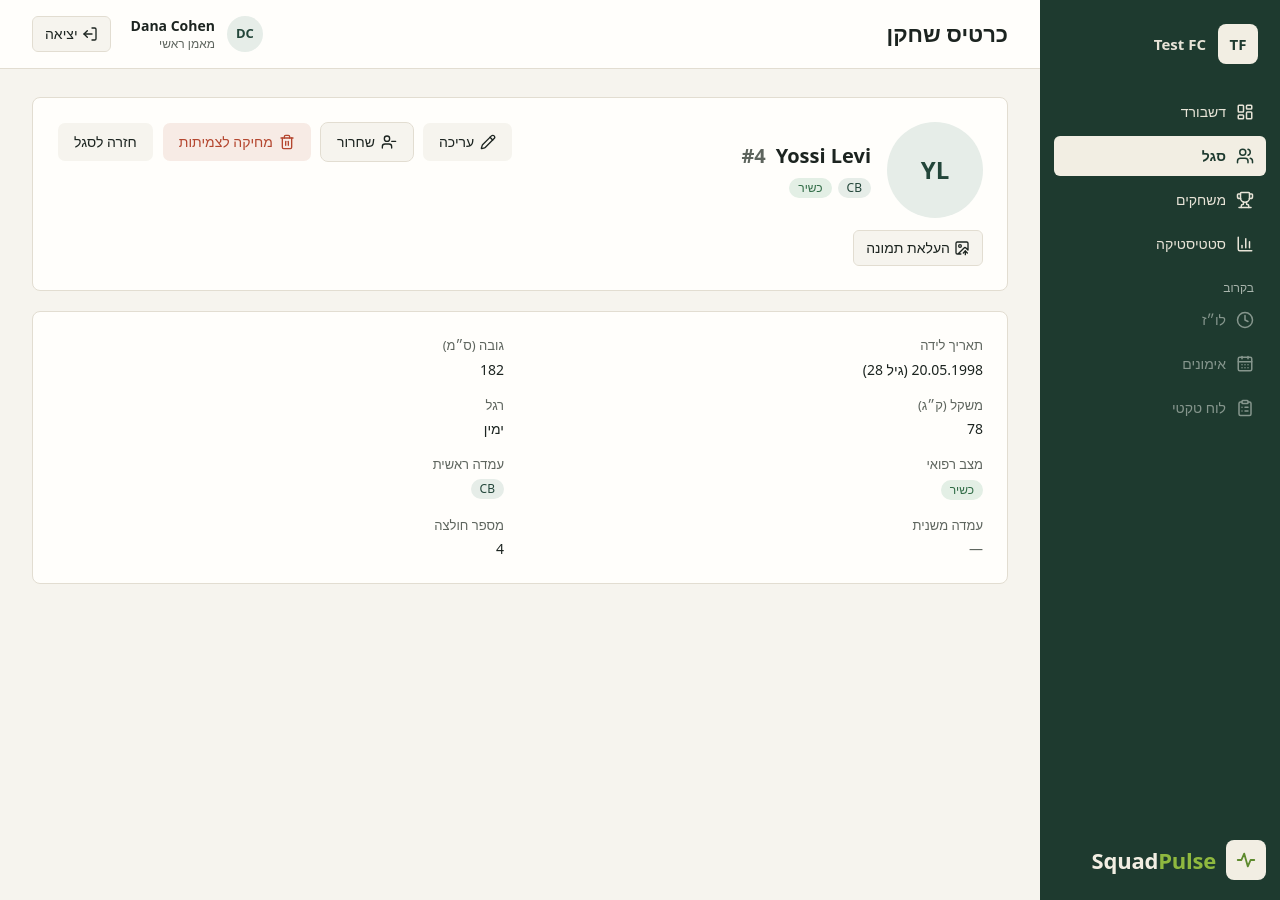
Test: the card's release › offers the squad when the player is gone (404)
The width and height of the screenshot is (1280, 900).
Expected: the heading "Yossi Levi" is shown, [776,142,871,170]
Click the button "שחרור": (367, 142) [320,122,414,162]
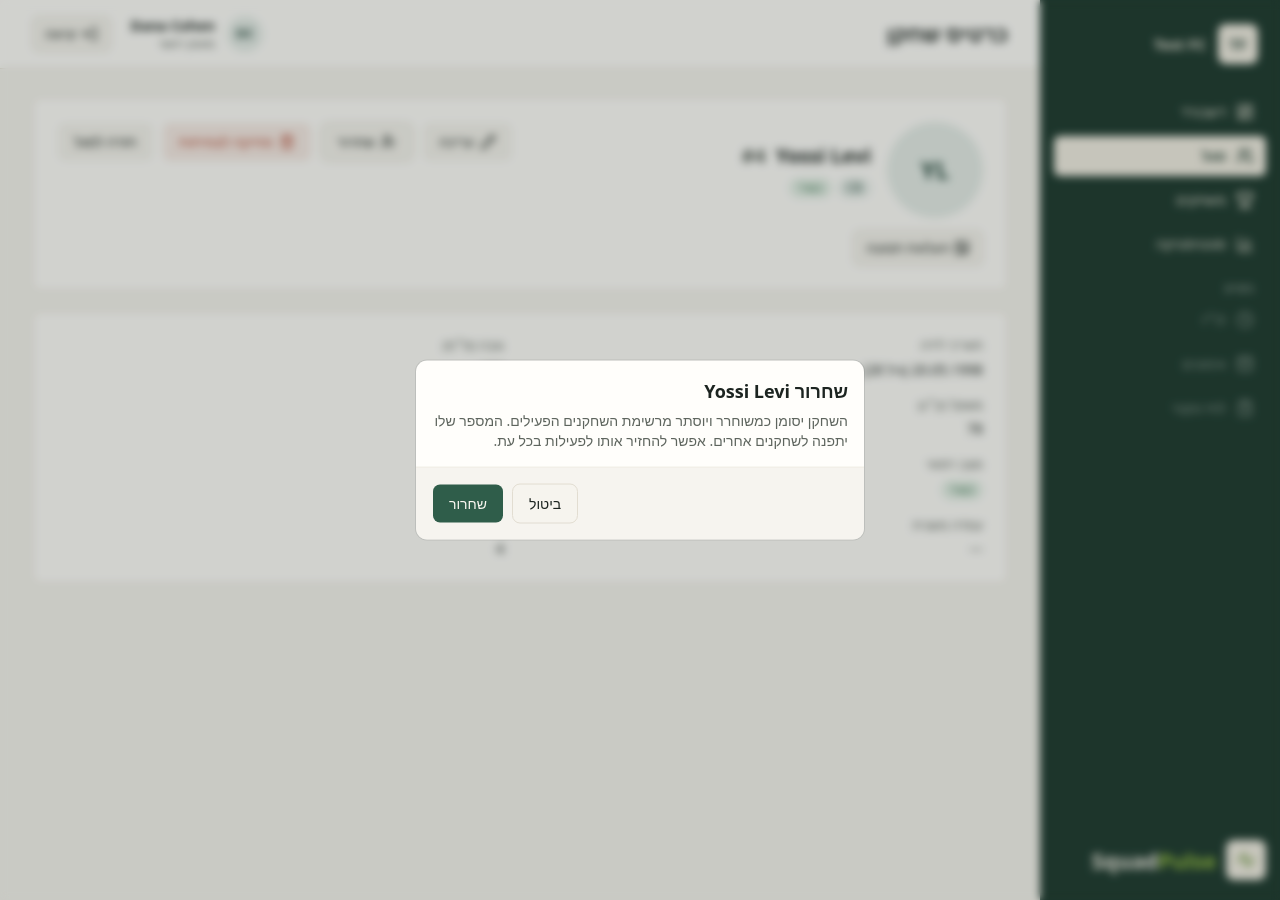
Click the button "שחרור": (468, 504) [432,484,504,524]
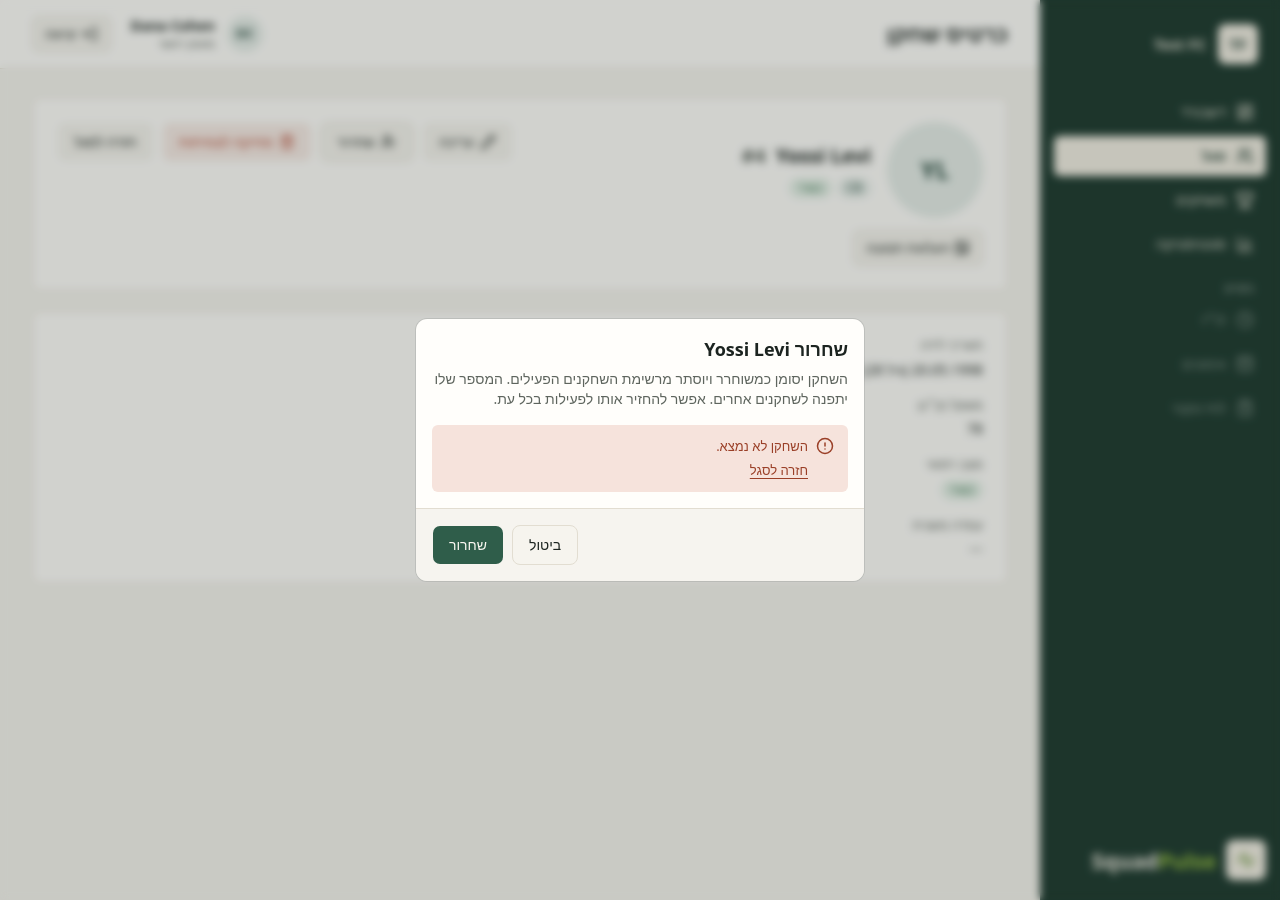
Now the message shows "השחקן לא נמצא.", box [716,437,808,455]
